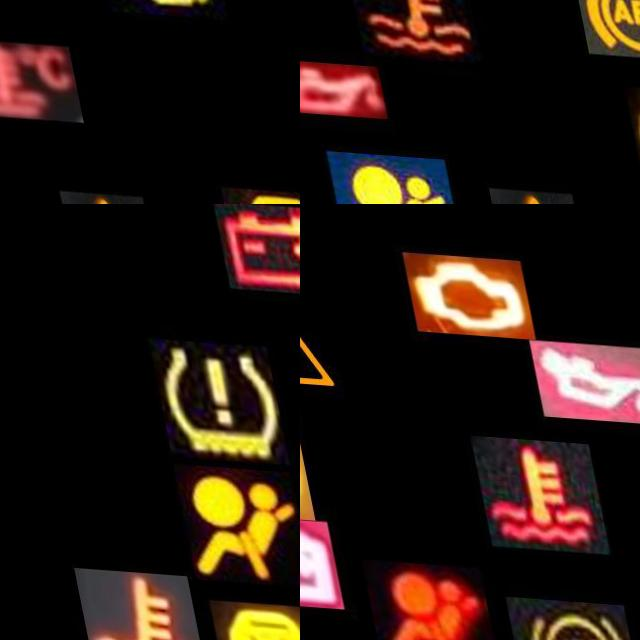Central Warning lamp: (300, 276, 341, 401)
Engine cooling system: (461, 429, 597, 547), (55, 567, 186, 640), (334, 0, 470, 58), (0, 36, 75, 118)
